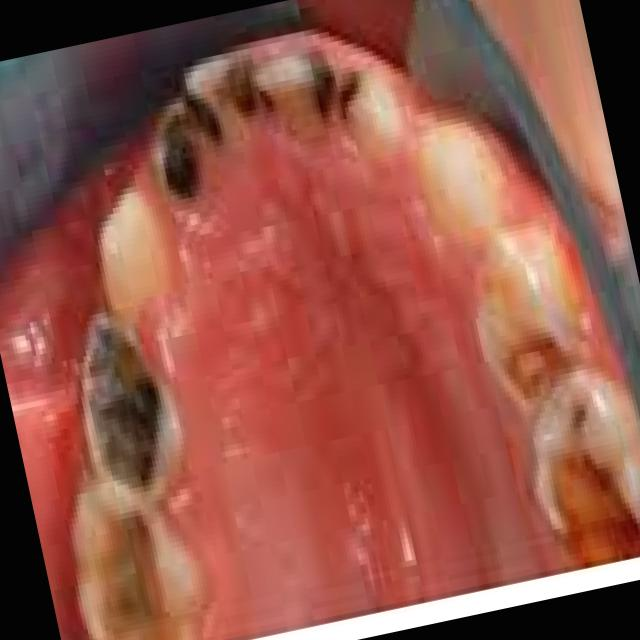caries: (66, 304, 187, 502), (144, 98, 215, 210), (302, 39, 376, 135), (214, 46, 280, 136)
